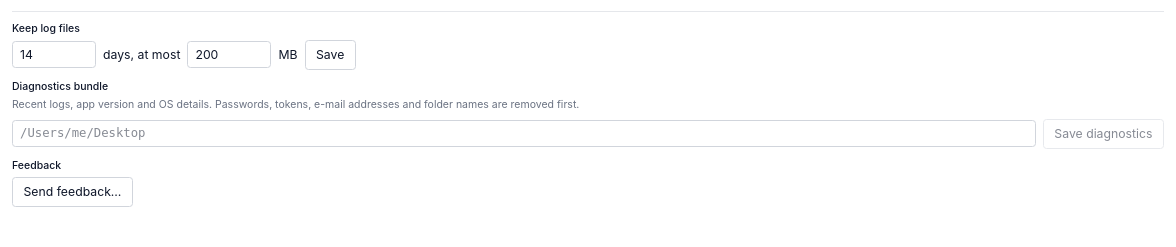
it: diagnostics section › saves a bundle to a folder and hides sending when unregistered
Check: the button "Save diagnostics" is disabled, box [1043,118,1164,148]
Type " /tmp/out " into the field named "Folder to save diagnostics" at [524, 134], box [12,120,1036,147]
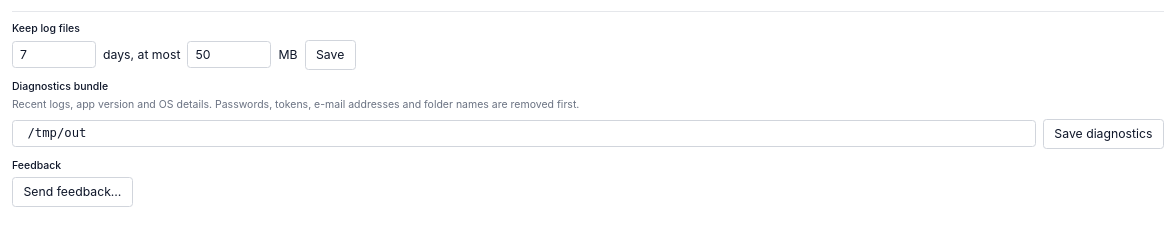
Click the button "Save diagnostics" at [1103, 134], box [1043,118,1164,148]
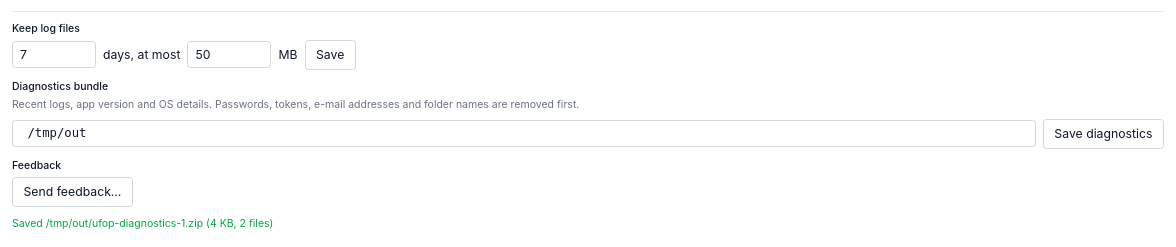
Check: the text "Saved /tmp/out/ufop-diagnostics-1.zip (4 KB, 2 files)" is shown, box [12,217,273,230]
